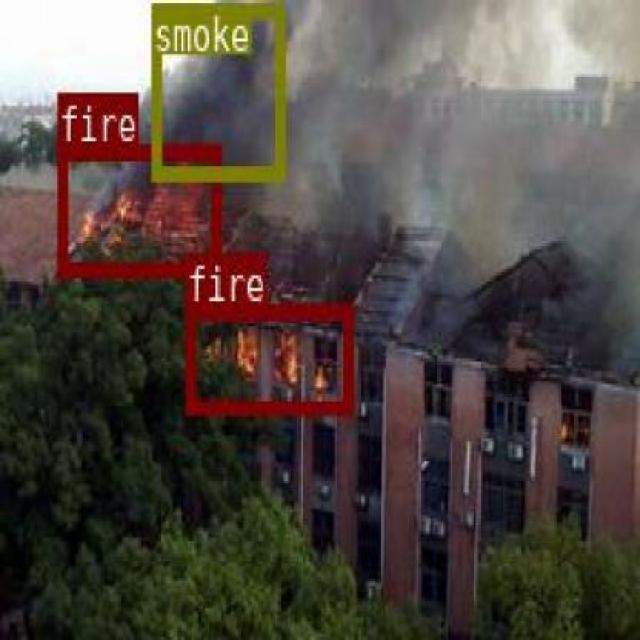Fire: (56, 142, 219, 275), (185, 303, 350, 411)
Smoke: (149, 1, 283, 178)
